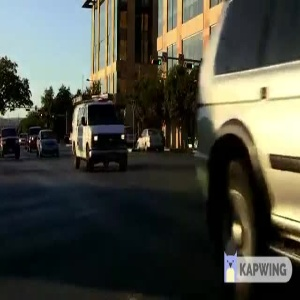van: (59, 88, 134, 169)
